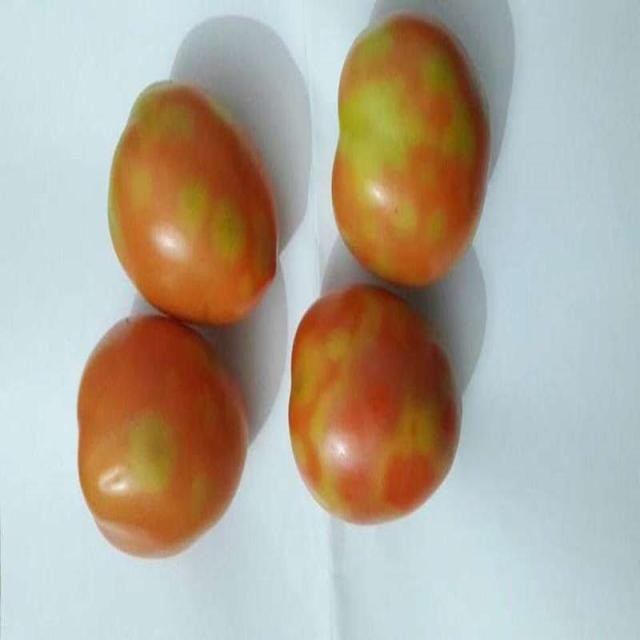Spotted wilt Virus Fruit: (52, 64, 225, 292)
